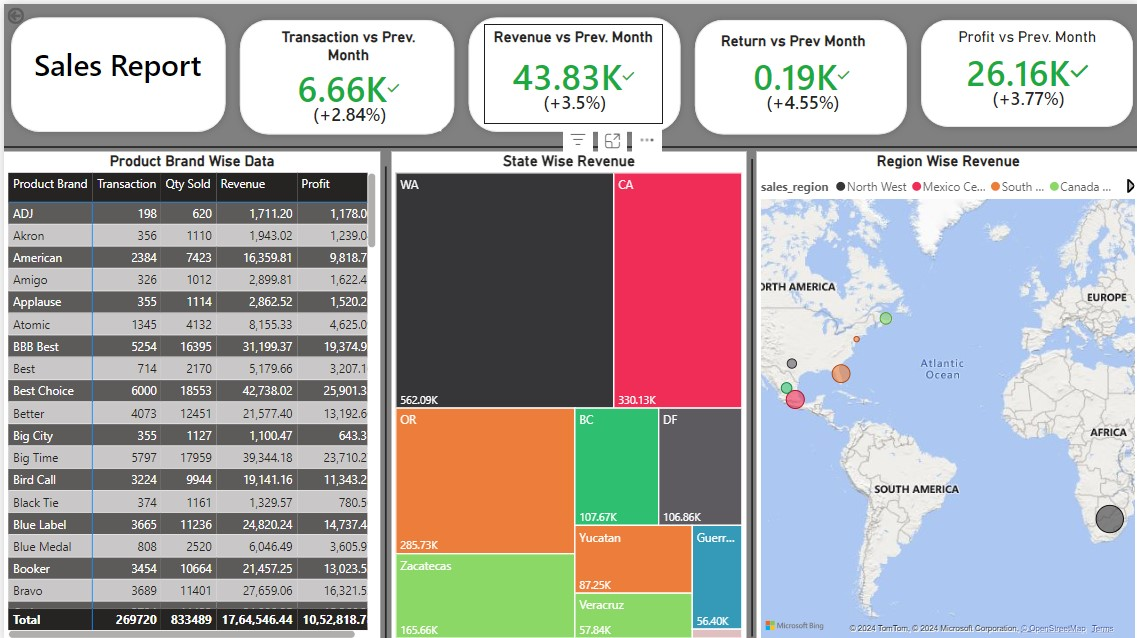

Layout of this report page (visuals, bound fields, positions):
{"tool":"powerbi","page":{"name":"DB1","canvas":[1280,720],"ordinal":0},"visuals":[{"type":"shape","box":[1025.4,9.9,254.9,136.6],"z":0},{"type":"shape","title":"Region Wise Region","box":[0,154.3,1280,12.4],"z":1000},{"type":"pivotTable","title":"Product Brand Wise Data","fields":{"Rows":["d_Products.product_brand"],"Values":["Measure.M_Total_Transaction","Measure.m_quantity_sold","Measure.M_Total_Revenue","Measure.M_Totol_Profit"]},"box":[0,166.2,423.9,553.5],"z":2000},{"type":"shape","box":[424.3,183.7,12.5,537],"z":3000},{"type":"map","title":"Region Wise Revenue","fields":{"Series":["d_Regions.sales_region"],"Size":["Measure.M_Total_Revenue"],"Category":["d_Regions.sales_region"]},"box":[847.9,166.2,432.4,553.5],"z":4000},{"type":"actionButton","box":[0,0,49.3,26.8],"z":5000},{"type":"shape","box":[836.6,174.6,12.7,538],"z":6000},{"type":"treemap","title":"State Wise Revenue","fields":{"Group":["d_Stores.store_state"],"Values":["Measure.M_Total_Revenue"]},"box":[436.6,166.2,400,553.5],"z":7000},{"type":"shape","box":[770.4,9.9,254.9,145.1],"z":8000},{"type":"shape","box":[515.5,7,254.9,145.1],"z":9000},{"type":"shape","box":[257.7,9.9,257.7,145.1],"z":10000},{"type":"kpi","title":"Profit vs Prev. Month","fields":{"TrendLine":["d_Calendar.Start_of_month"],"Goal":["Measure.M_Totol_Profit"],"Indicator":["Measure.M_previous_Month_Profit"]},"box":[1047.9,22.5,209.9,102.8],"z":11000},{"type":"kpi","title":"Transaction vs Prev. Month","fields":{"TrendLine":["d_Calendar.Start_of_month"],"Goal":["Measure.M_Total_Transaction"],"Indicator":["Measure.M_previous_month_transaction"]},"box":[283.1,22.5,209.9,121.1],"z":12000},{"type":"kpi","title":"Revenue vs Prev. Month","fields":{"TrendLine":["d_Calendar.Start_of_month"],"Goal":["Measure.M_Total_Revenue"],"Indicator":["Measure.M_previous_month_revenue"]},"box":[540.8,22.5,201.4,112.7],"z":13000},{"type":"kpi","title":"Return vs Prev Month","fields":{"TrendLine":["d_Calendar.Start_of_month"],"Goal":["Measure.M_Previous_Month_Returns"],"Indicator":["Measure.M_total_return"]},"box":[802.8,26.8,191.5,104.2],"z":14000},{"type":"shape","box":[0,7,257.7,145.1],"z":15000},{"type":"card","fields":{"Values":["Min(d_Stores.Report Name)"]},"box":[11.3,36.6,233.8,85.9],"z":16000}]}

Visuals, with their boxes in screenshot pixels (x1, y1, x2, y2), scaled from the page's 1280x720 canvas onto the 1137x638 screenshot:
shape: bbox=(911, 9, 1136, 130)
"Region Wise Region" shape: bbox=(0, 137, 1136, 148)
"Product Brand Wise Data" pivotTable: bbox=(0, 147, 377, 637)
shape: bbox=(377, 163, 388, 637)
"Region Wise Revenue" map: bbox=(753, 147, 1136, 637)
actionButton: bbox=(0, 0, 44, 24)
shape: bbox=(743, 155, 754, 631)
"State Wise Revenue" treemap: bbox=(388, 147, 743, 637)
shape: bbox=(684, 9, 911, 137)
shape: bbox=(458, 6, 684, 135)
shape: bbox=(229, 9, 458, 137)
"Profit vs Prev. Month" kpi: bbox=(931, 20, 1117, 111)
"Transaction vs Prev. Month" kpi: bbox=(251, 20, 438, 127)
"Revenue vs Prev. Month" kpi: bbox=(480, 20, 659, 120)
"Return vs Prev Month" kpi: bbox=(713, 24, 883, 116)
shape: bbox=(0, 6, 229, 135)
card - Min(d_Stores.Report Name): bbox=(10, 32, 218, 109)
